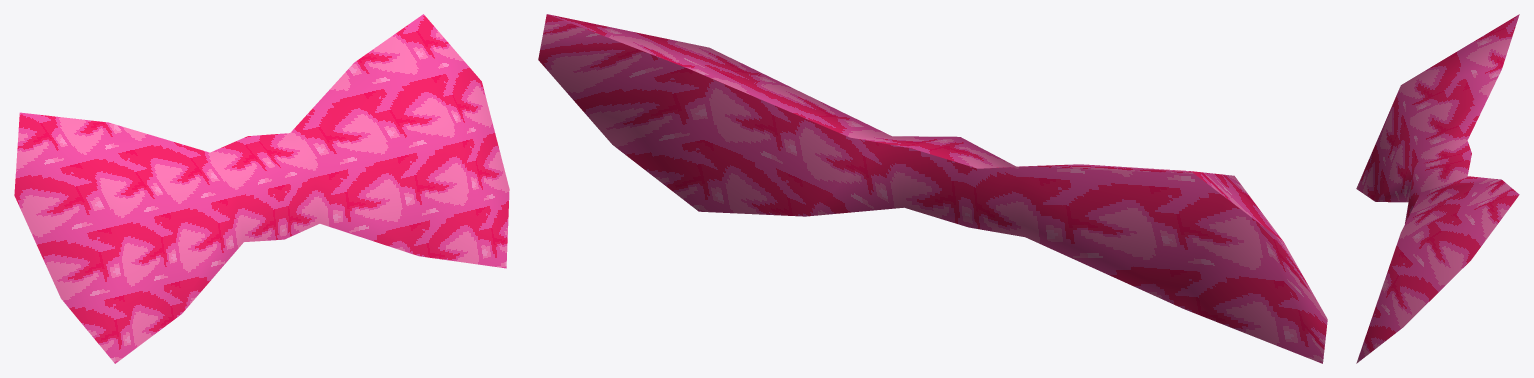
Rendered from code_head86.gltf.
The picture shows the model from 3 angles, left to right: view 1: azimuth 30°, elevation 25°; view 2: azimuth 150°, elevation 25°; view 3: azimuth 270°, elevation 25°; orthographic projection. The views are drawn at different scales.
Parts seen in each view (by area): view 1: code_head86; view 2: code_head86; view 3: code_head86.
Part boxes in pixels (x1,y1,x2,y2): code_head86: (14,14,509,363); code_head86: (538,14,1327,363); code_head86: (1356,14,1519,363).
Bounding box in the file's own units: 0.7495 × 0.2876 × 0.2476.
Materials: 1 (1 with a texture image).
